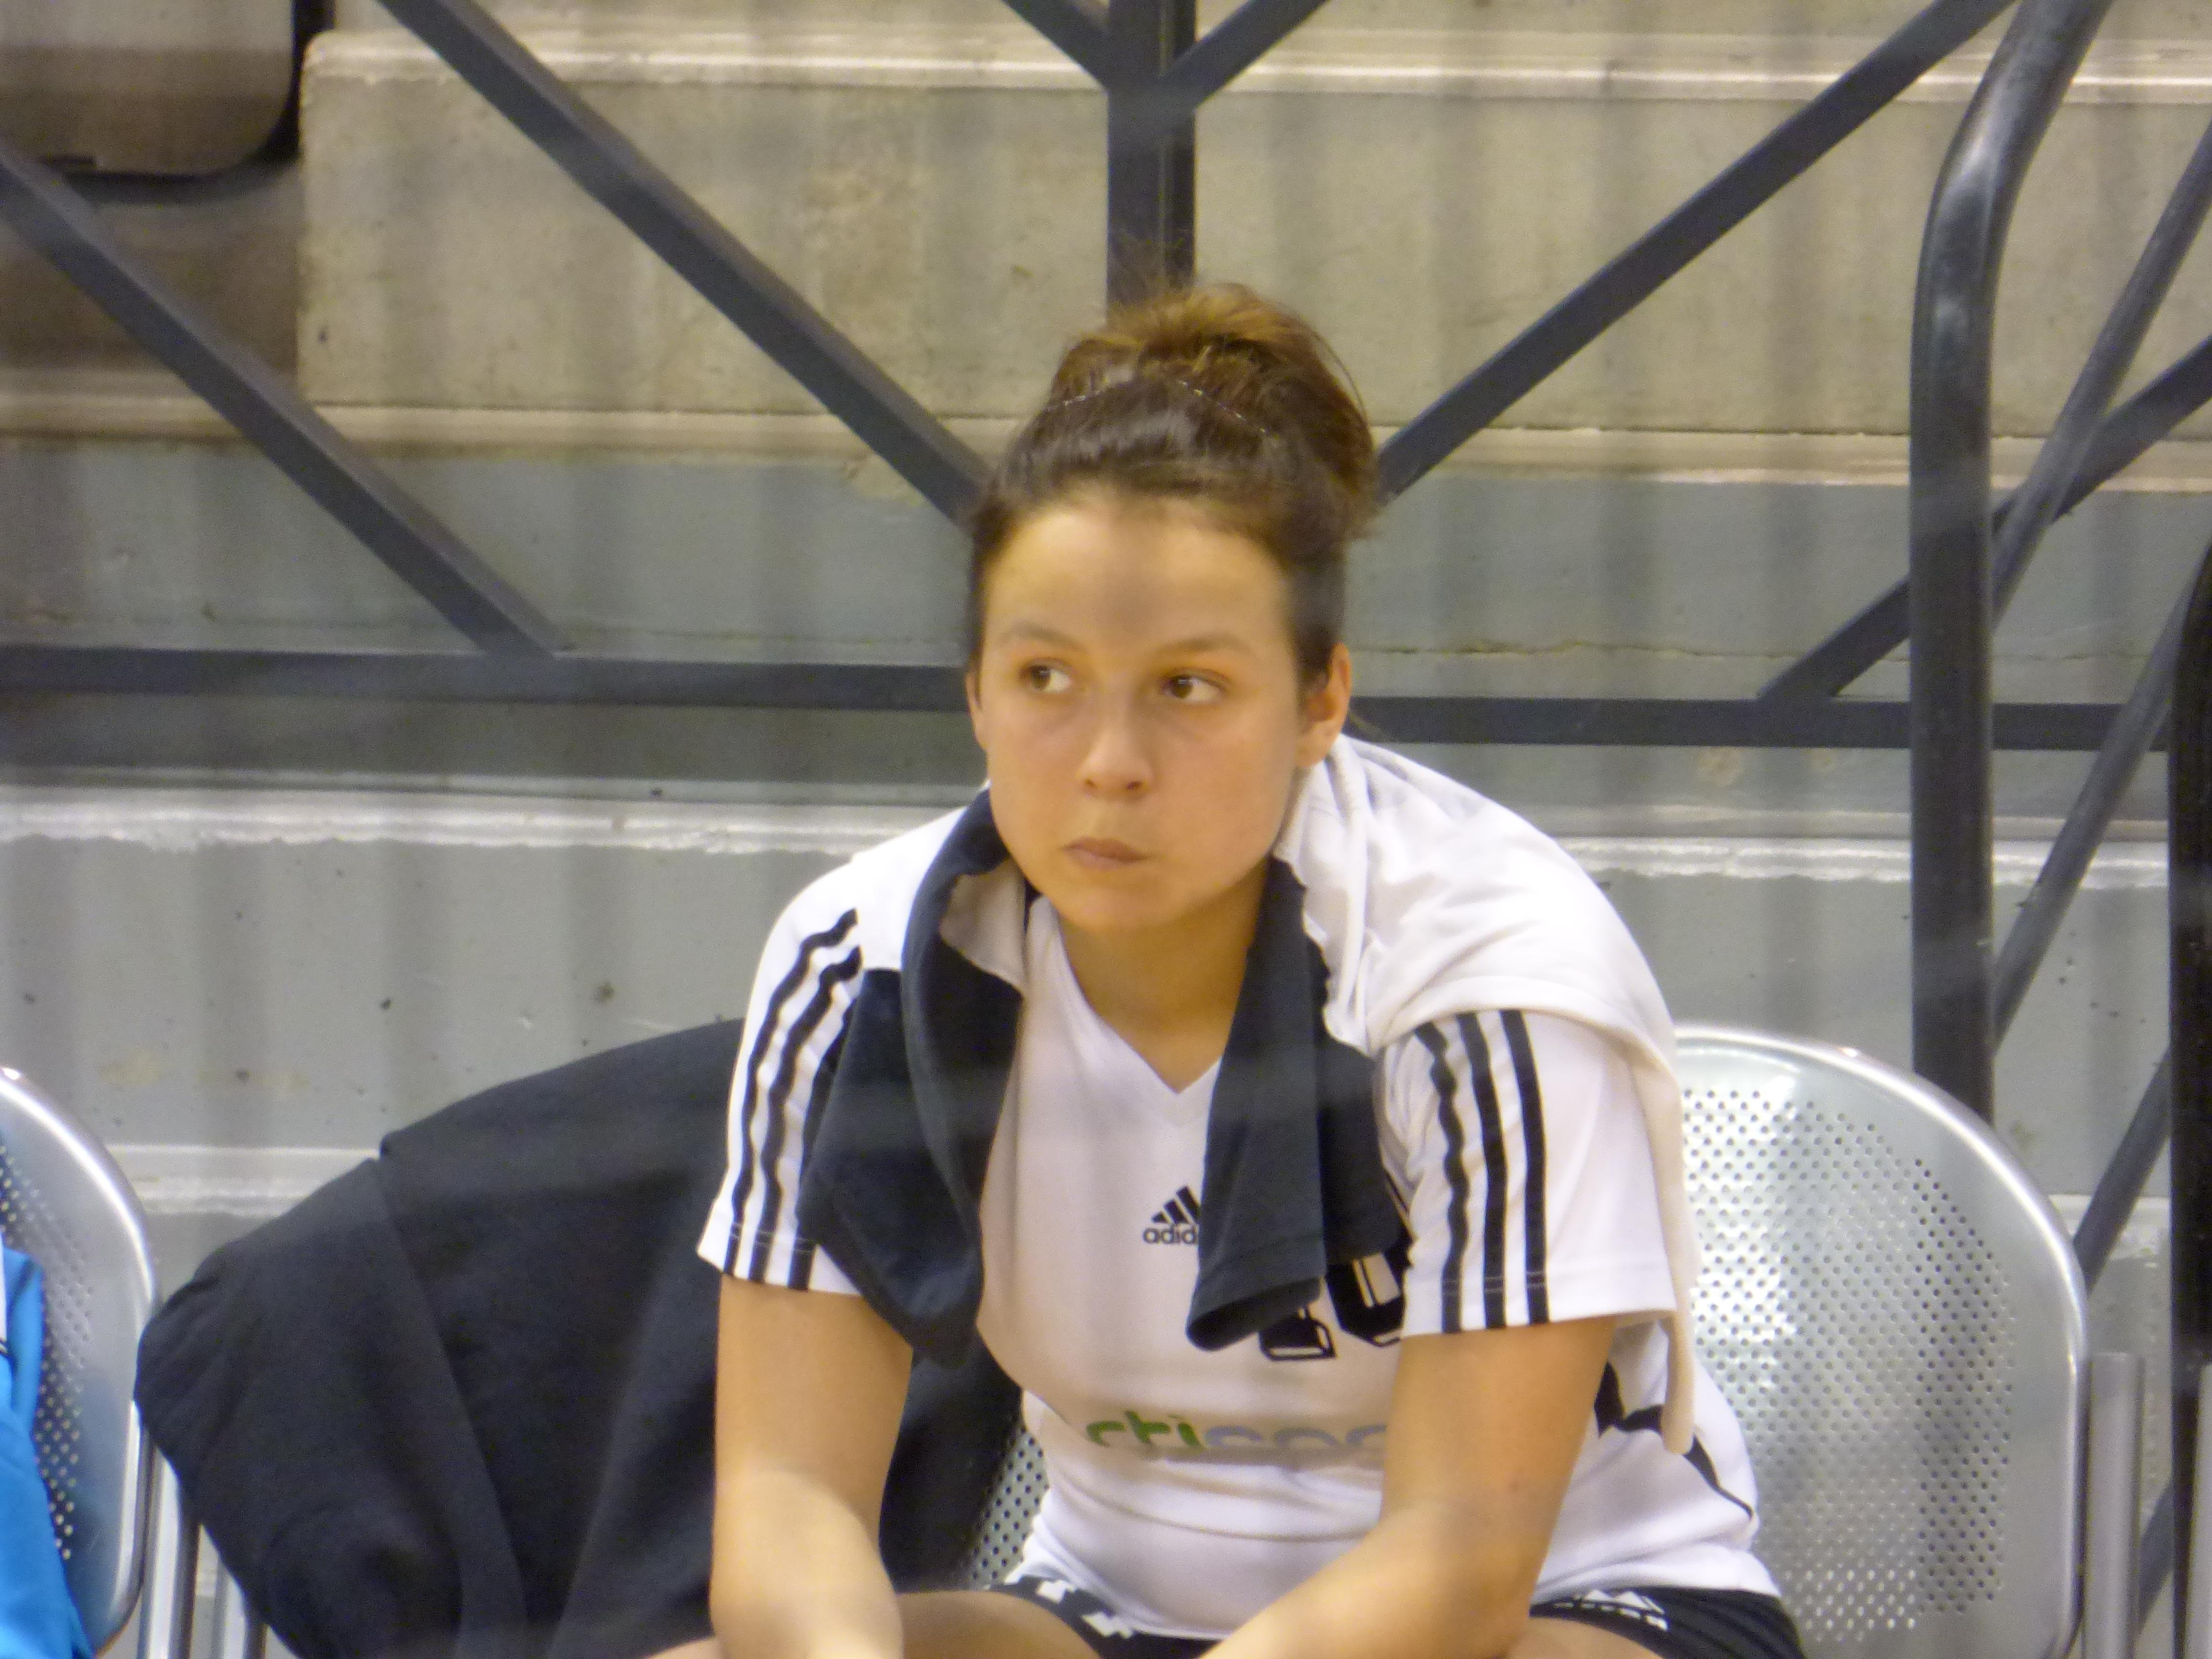Sem Máscara: (977, 469, 1310, 929)
